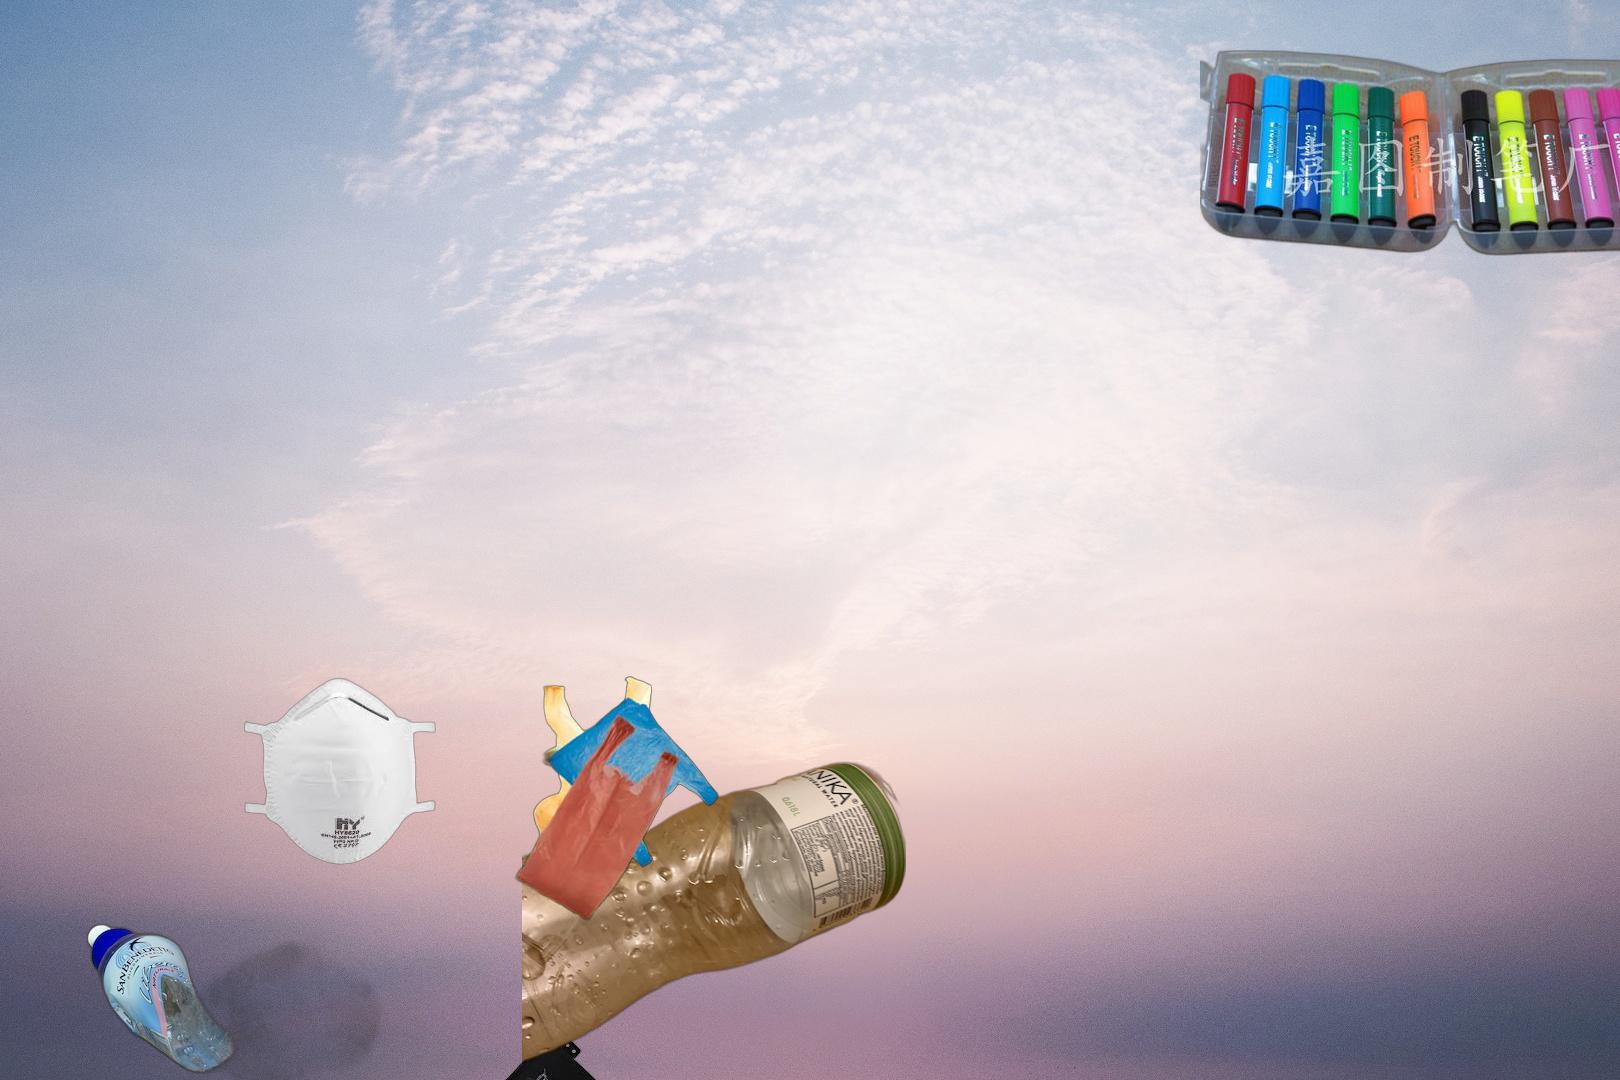battery: (385, 1034, 610, 1080)
penholder: (1201, 47, 1620, 259)
plastic-bag: (513, 674, 721, 923)
plastic-bottles: (522, 757, 906, 1066), (86, 920, 427, 1080)
trash: (242, 676, 438, 867)
